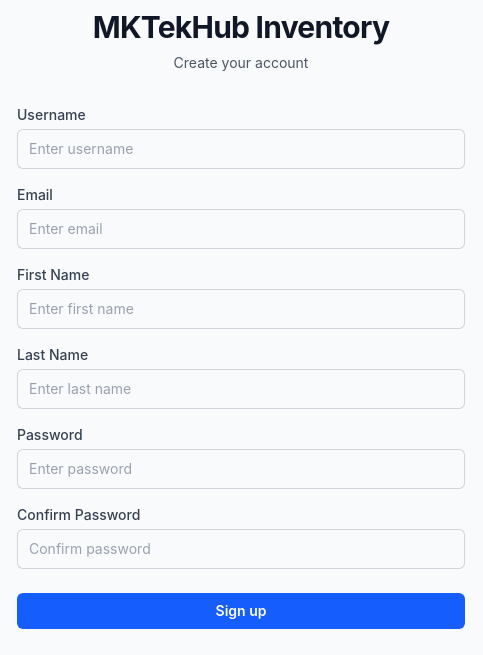
it: SignupPage › Form Submission - Error Handling › should display error message on signup failure
In the field with placeholder "Enter username": (241, 149) left=17, top=129, right=465, bottom=169, type "existinguser"
In the field with placeholder "Enter email": (241, 229) left=17, top=209, right=465, bottom=249, type "user@example.com"
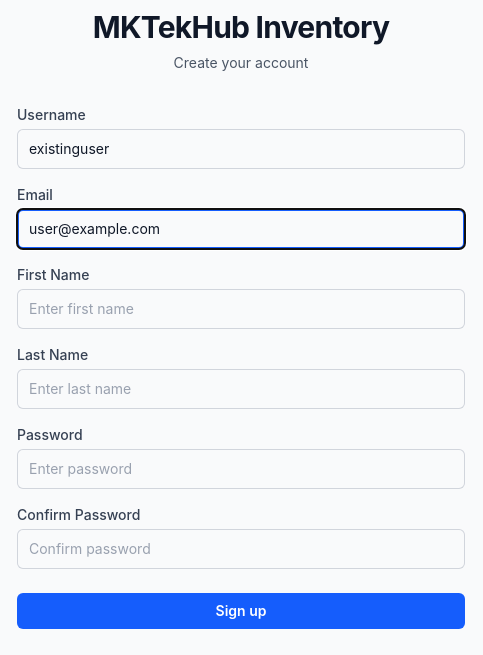
In the field with placeholder "Enter first name": (241, 309) left=17, top=289, right=465, bottom=329, type "John"
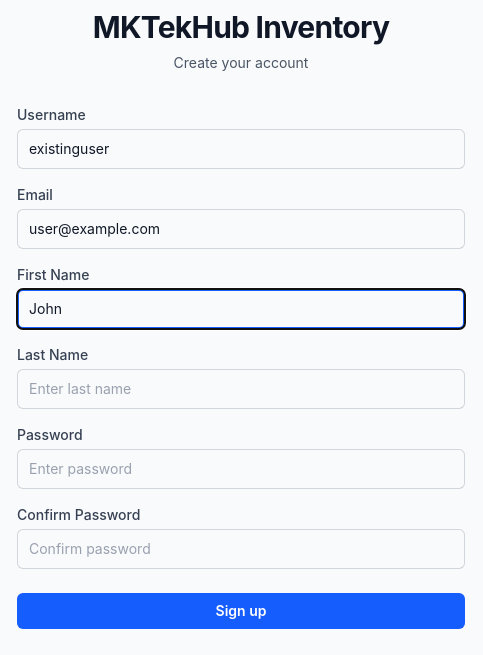
In the field with placeholder "Enter last name": (241, 389) left=17, top=369, right=465, bottom=409, type "Doe"
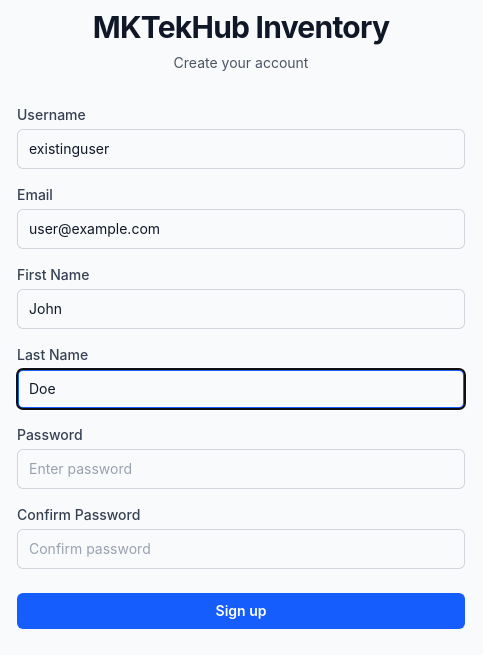
In the password field with placeholder "Enter password": (241, 469) left=17, top=449, right=465, bottom=489, type "password123"
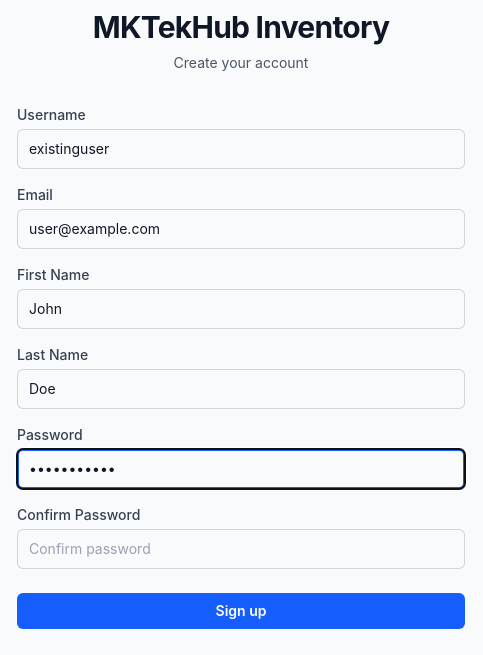
In the password field with placeholder "Confirm Password": (241, 549) left=17, top=529, right=465, bottom=569, type "password123"
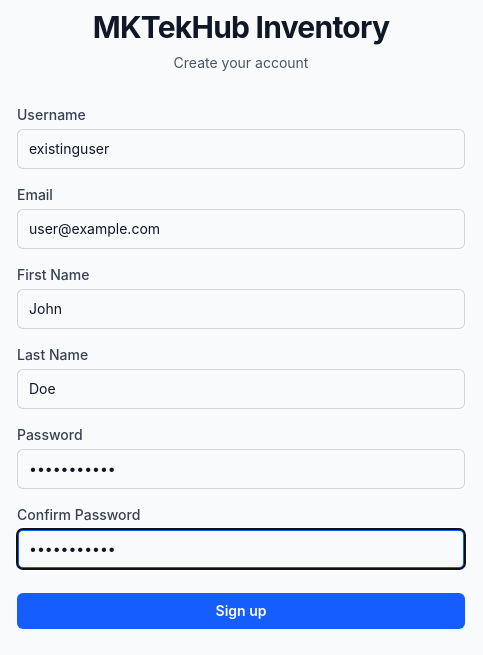
Click the button "Sign up": (241, 611) left=17, top=593, right=465, bottom=629
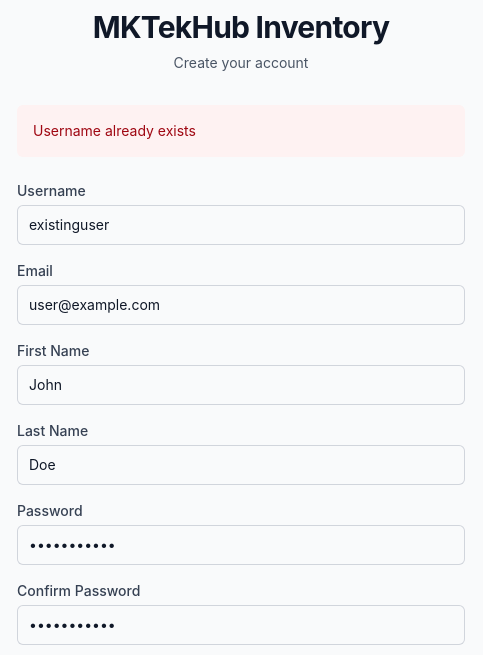
Expected: the text "Username already exists" is shown, left=33, top=122, right=196, bottom=139
